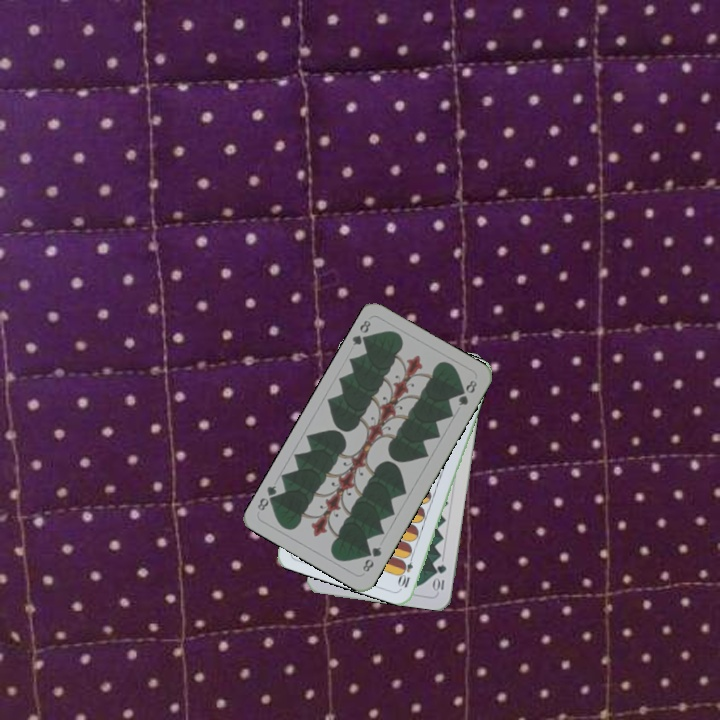E10: (396, 550, 416, 590)
G10: (430, 560, 449, 594)
G8: (358, 543, 384, 575), (348, 316, 374, 348)
